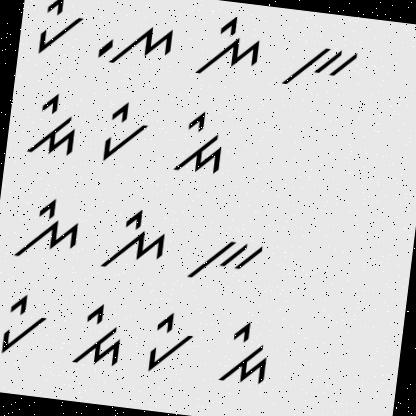di: (21, 88, 88, 164), (66, 298, 129, 374), (214, 316, 277, 390), (169, 106, 229, 180)
ni: (8, 190, 85, 271), (99, 202, 172, 280), (194, 12, 264, 86)
pi: (138, 308, 200, 380), (95, 96, 153, 167), (0, 288, 50, 360), (31, 0, 89, 59)
